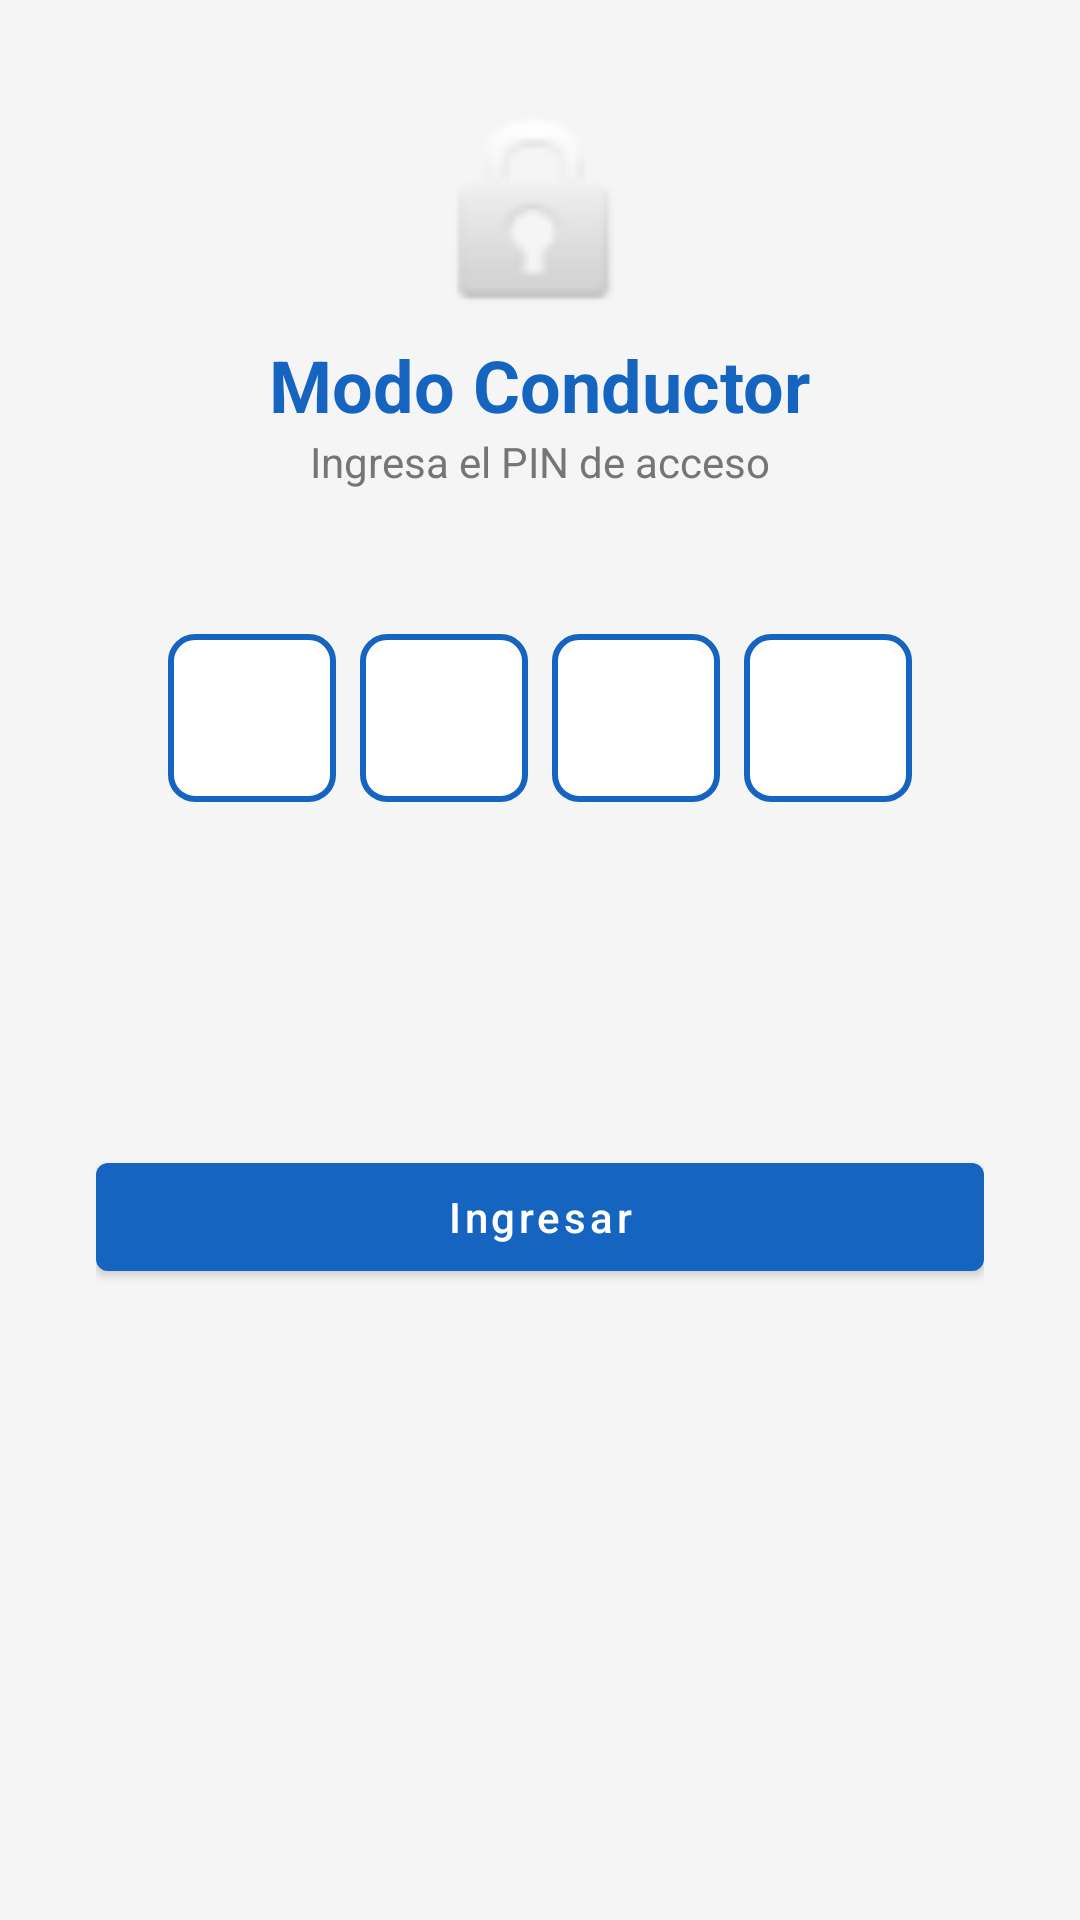

Point at icon controls on the screen. Image size 1080px×1920px, points as point (x, y).
lock idle: point (533, 252)
